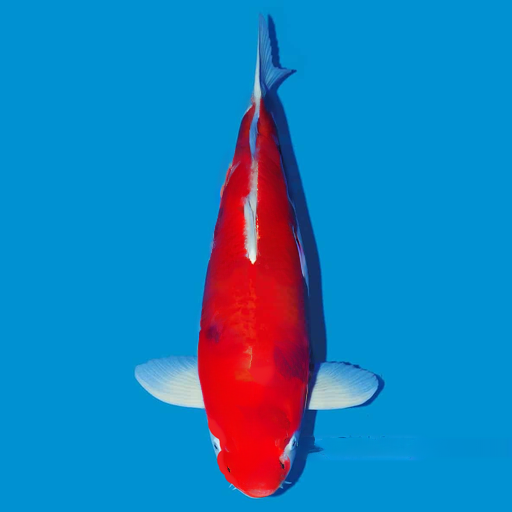red: (135, 15, 381, 497)
